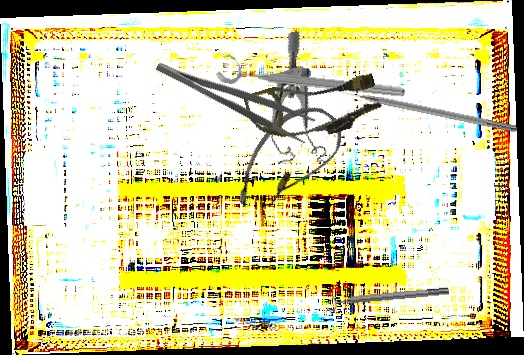Cannula: (224, 90, 353, 232), (242, 58, 386, 156)
Dressing Forceps: (153, 46, 317, 146)
Fixation Ring: (214, 52, 408, 102), (325, 281, 450, 313)
Hook Surgical: (330, 84, 518, 134)
Speculum: (242, 30, 338, 176)
